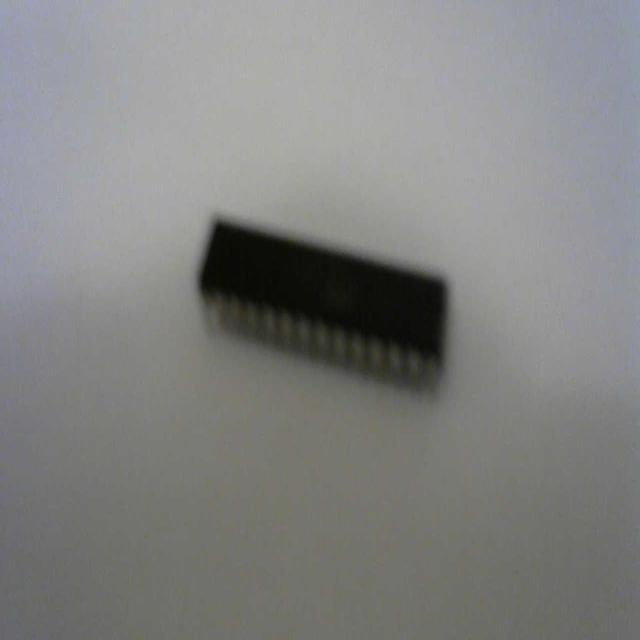atmega: (195, 210, 450, 394)
